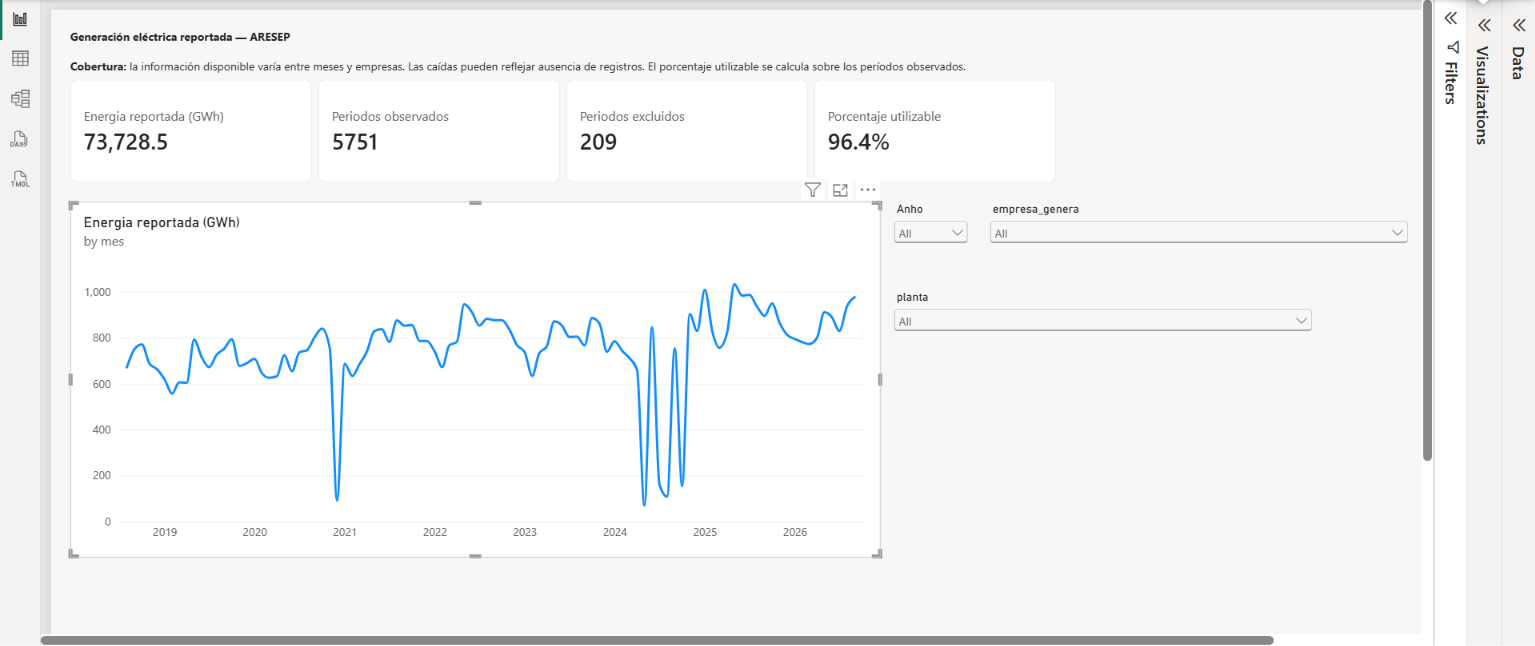

The page's visual inventory and layout, read from the dashboard file:
{"tool":"powerbi","page":{"name":"Page 1","canvas":[1920,1080],"ordinal":0},"visuals":[{"type":"cardVisual","fields":{"Data":["Generacion.Energia reportada (GWh)","Generacion.Periodos observados","Generacion.Periodos excluidos","Generacion.Porcentaje utilizable"]},"box":[24,88,1232,128],"z":0},{"type":"lineChart","fields":{"Category":["Generacion.mes"],"Y":["Generacion.Energia reportada (GWh)"]},"box":[23.8,240,1013.8,445],"z":1000},{"type":"slicer","fields":{"Values":["Generacion.empresa_genera"]},"box":[1168.8,240,532,262],"z":1001},{"type":"slicer","fields":{"Values":["Calendario.Anho"]},"box":[1048.8,240,102,314],"z":1002},{"type":"slicer","fields":{"Values":["Generacion.planta"]},"box":[1048.8,350,532,262],"z":1003},{"type":"textbox","box":[23.8,23.8,1232.5,63.8],"z":1004},{"type":"textbox","box":[1256,66,340,150],"z":1005}]}

Visuals, with their boxes on the page's 1920x1080 design canvas (x1, y1, x2, y2). These are canvas units, not pixel positions in the 1535x646 screenshot, which may show the page scaled, cropped or inside an application window:
cardVisual - Generacion.Energia reportada (GWh) x Generacion.Periodos observados: box=[24, 88, 1256, 216]
lineChart - Generacion.mes x Generacion.Energia reportada (GWh): box=[24, 240, 1038, 685]
slicer - Generacion.empresa_genera: box=[1169, 240, 1701, 502]
slicer - Calendario.Anho: box=[1049, 240, 1151, 554]
slicer - Generacion.planta: box=[1049, 350, 1581, 612]
textbox: box=[24, 24, 1256, 88]
textbox: box=[1256, 66, 1596, 216]
